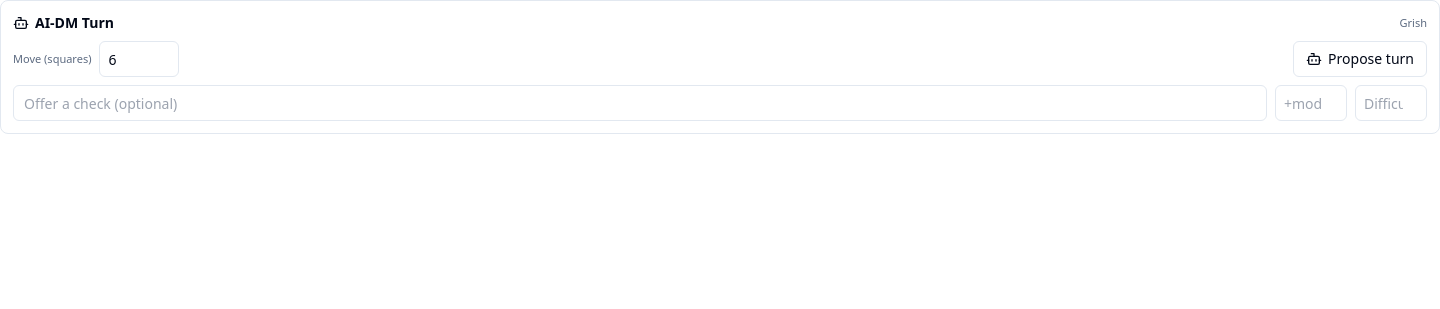
DmTurnPanel › keeps the proposal on screen and shows why when the host refuses to apply it
Click the button "Propose turn" at (1360, 59), box x1=1293 y1=41 x2=1427 y2=77
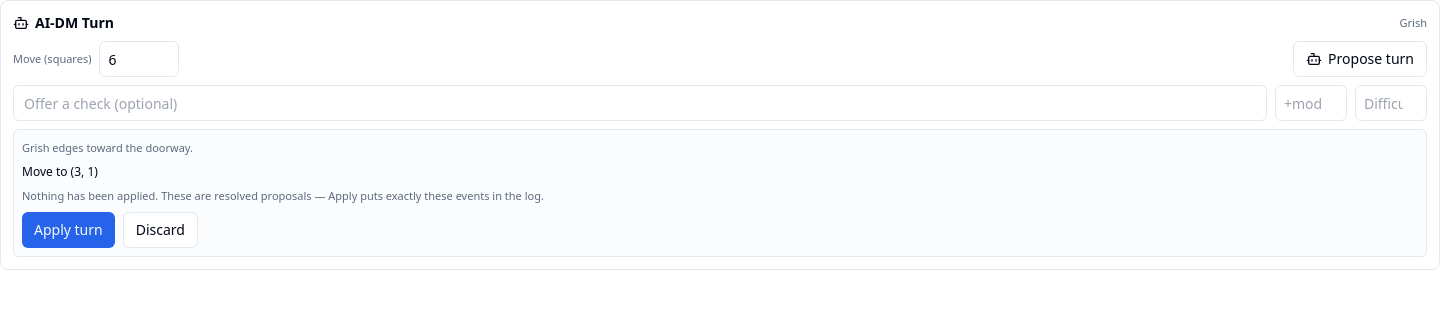
Check: the list item "Move to (3, 1)" is shown, box x1=22 y1=163 x2=98 y2=180
Click the button "Apply turn" at (68, 230), box x1=22 y1=212 x2=115 y2=248
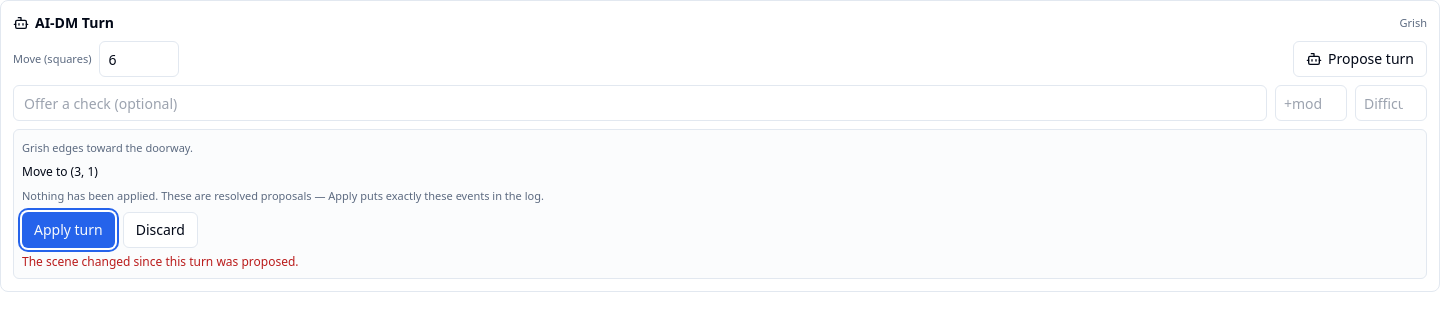
Check: the list item "Move to (3, 1)" is shown, box x1=22 y1=163 x2=98 y2=180
Check: the text "The scene changed since this turn was proposed." is shown, box x1=22 y1=253 x2=298 y2=270
